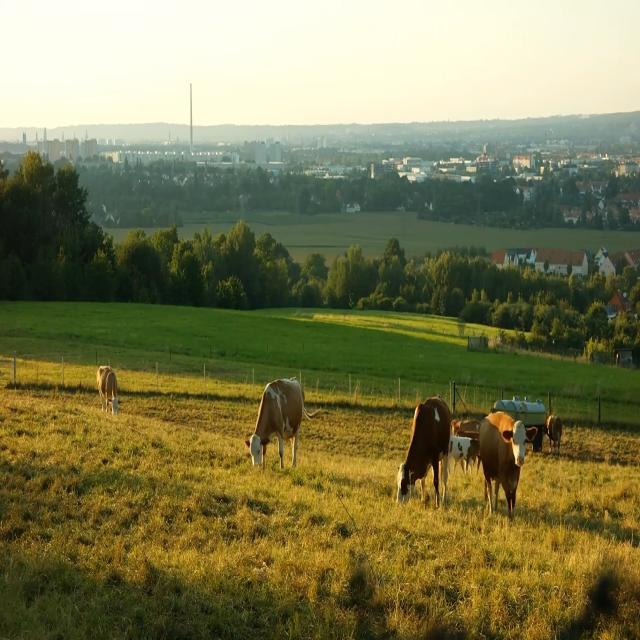cow: (229, 354, 327, 494), (386, 384, 460, 526), (477, 389, 546, 535), (94, 358, 130, 420)
